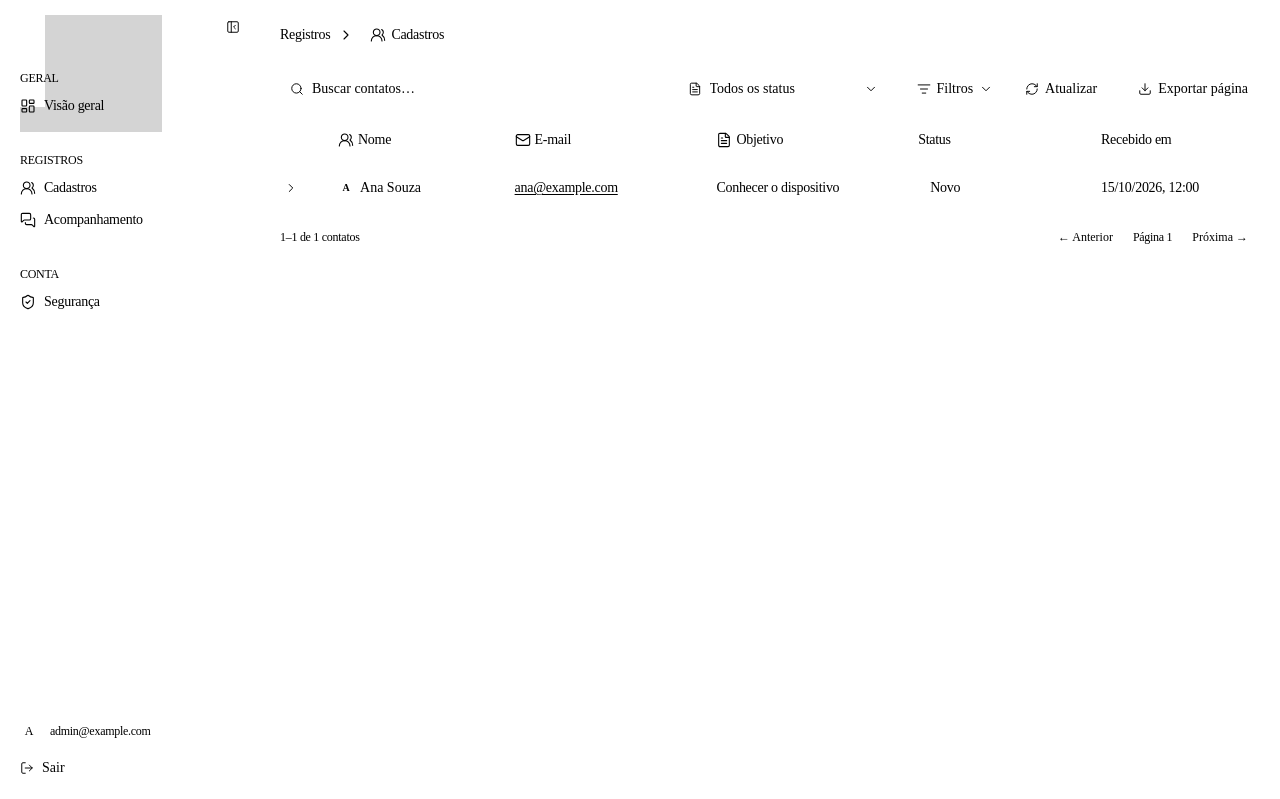
Test: administrative workflow › shows lead details, preserves a note draft after version conflict and can save it
Click the button with aria-label "Ver contato de Ana Souza". click: {"x": 414, "y": 188}
box: [338,178,491,198]
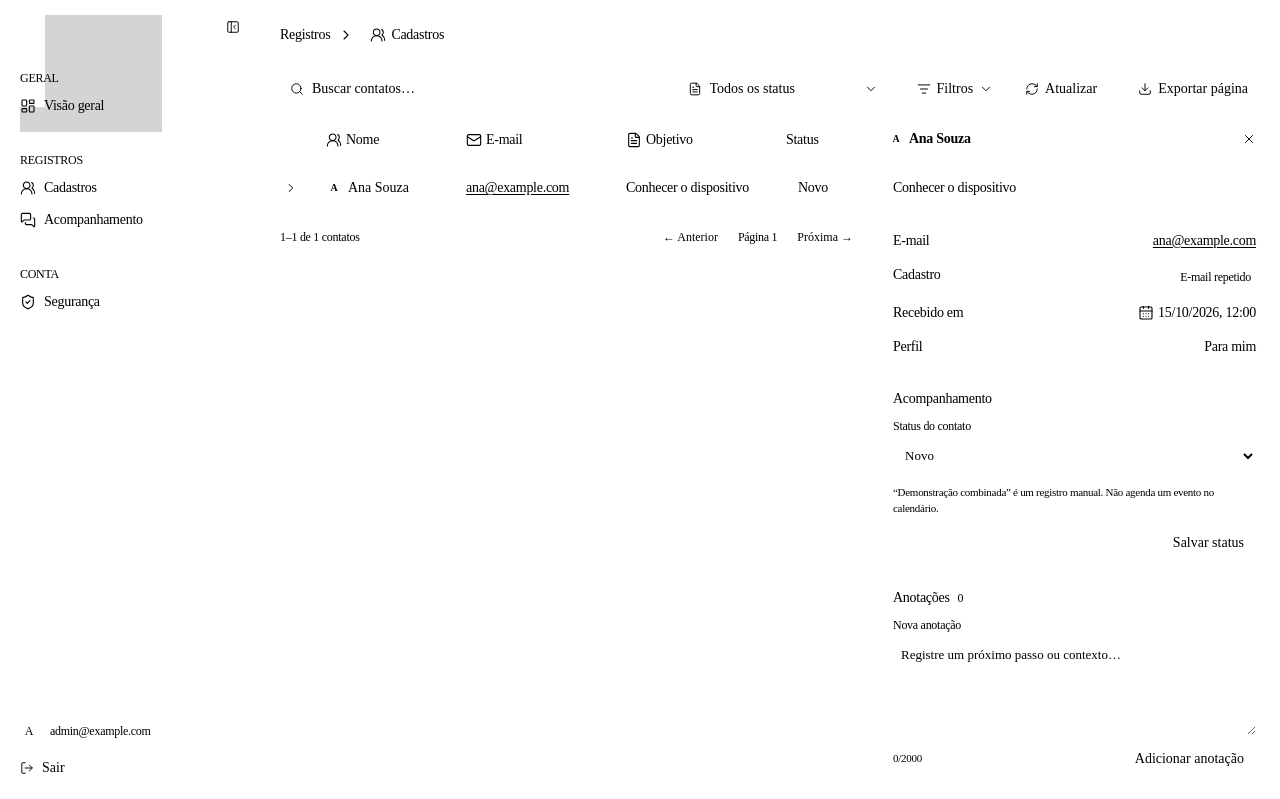
Expected: the text "E-mail repetido" is shown, [1175,266,1256,288]
Type "Ligar amanhã" into the text box labelled "Nova anotação". click: {"x": 1074, "y": 687}
box: [893,639,1256,735]
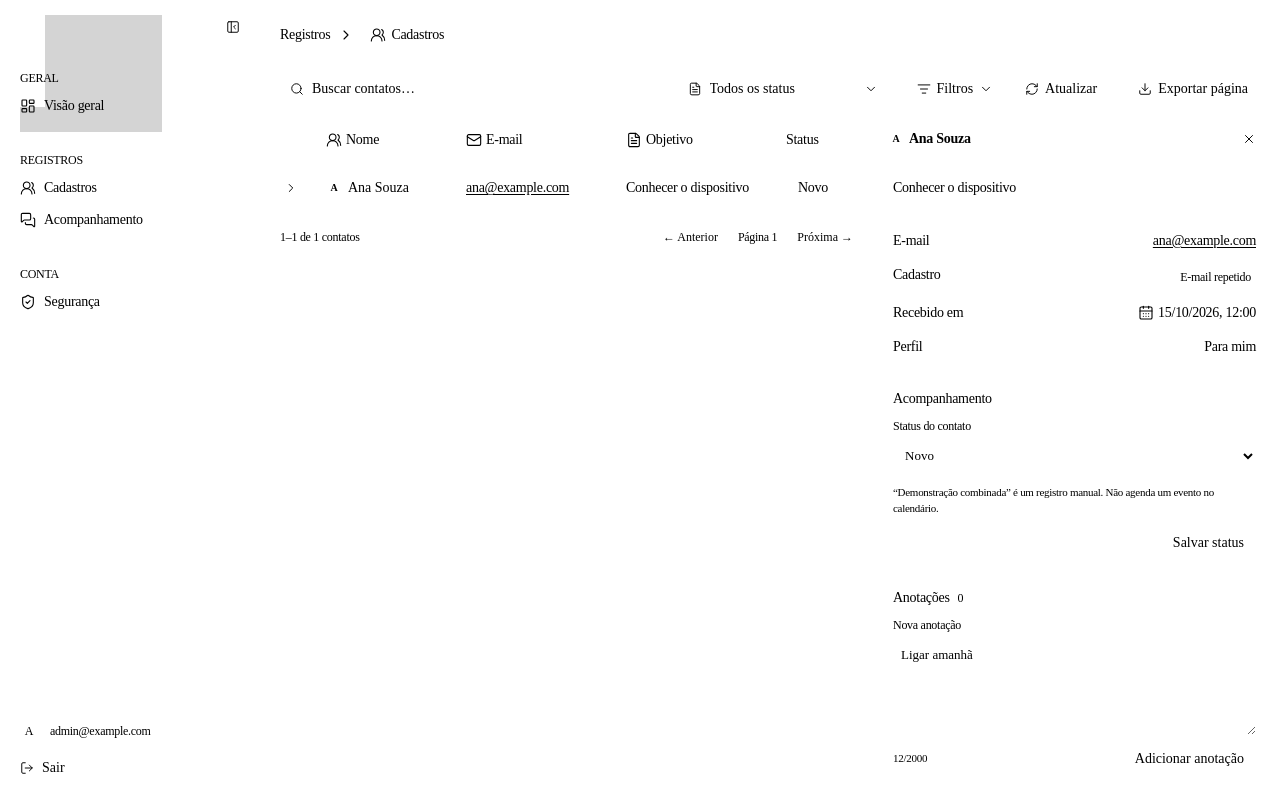
Select "Em contato" in the dropdown labelled "Status do contato". click: {"x": 1074, "y": 456}
box: [893,440,1256,472]
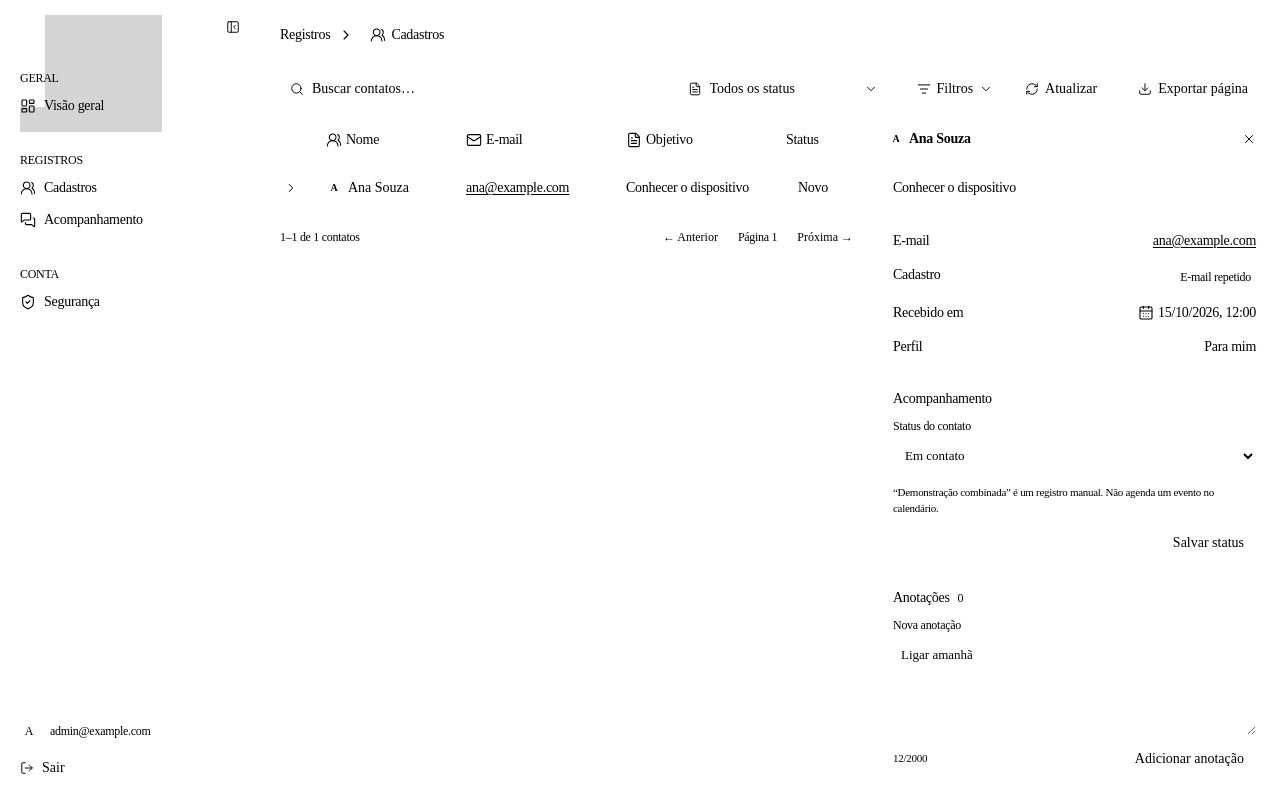
Click the button "Salvar status". click: {"x": 1208, "y": 543}
box: [1161,529,1256,557]
(page scrolled)
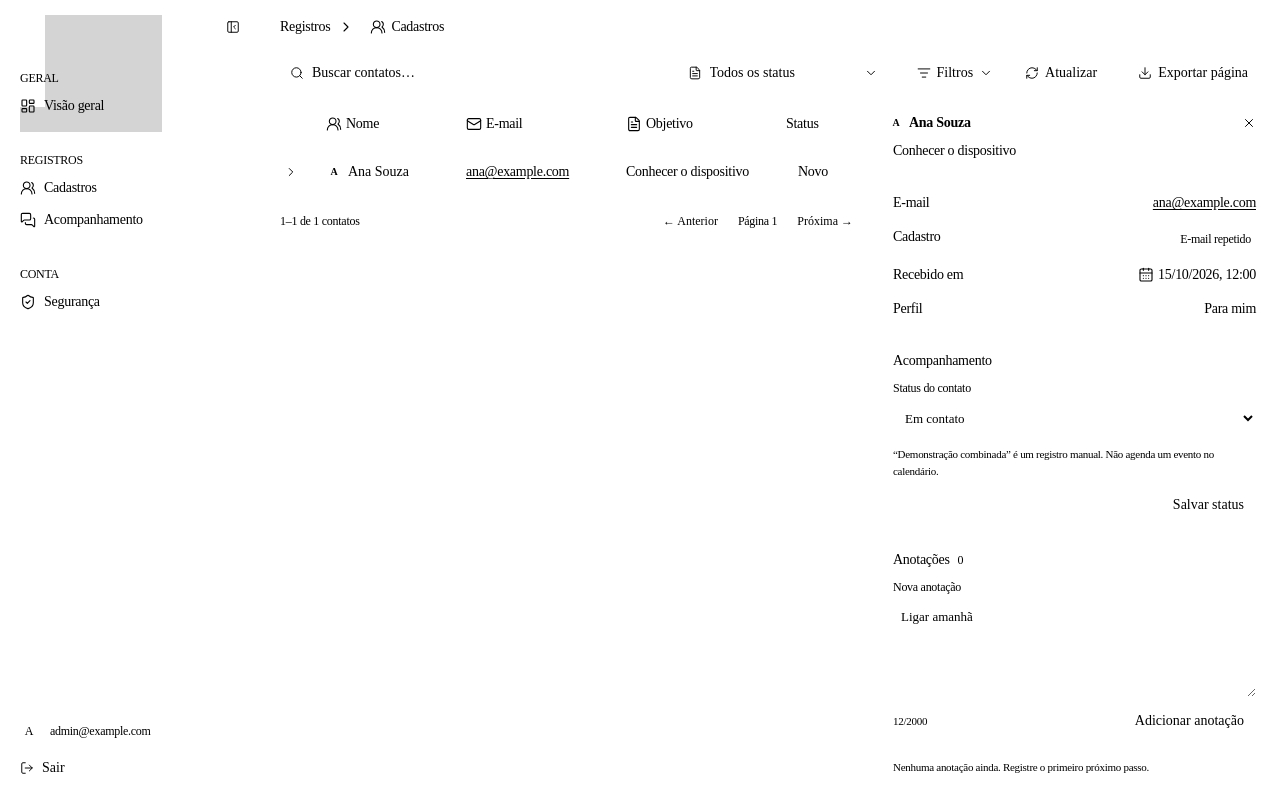
Click the button "Adicionar anotação". click: {"x": 1189, "y": 721}
box: [1123,707,1256,735]
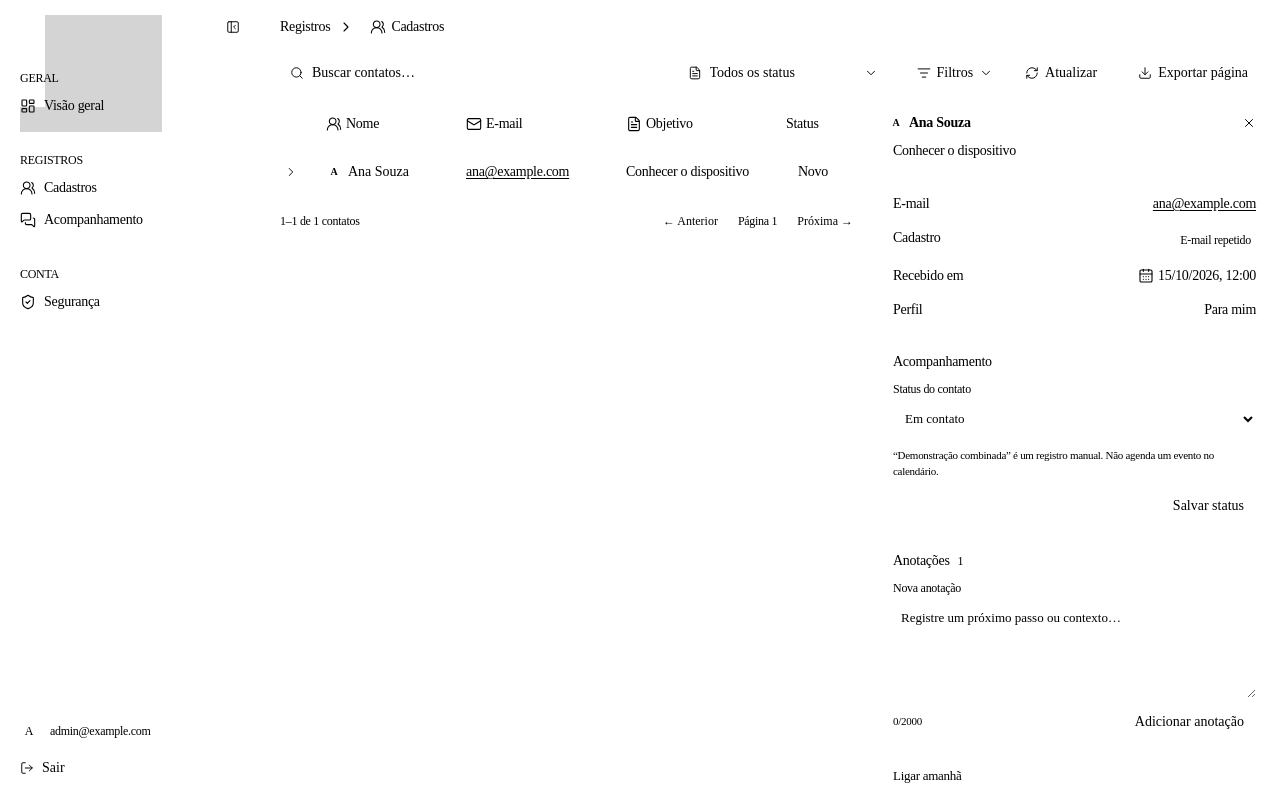
Expected: the text box labelled "Nova anotação" is empty, [893,602,1256,698]
Expected: the text "Ligar amanhã" is shown, [893,768,962,783]
